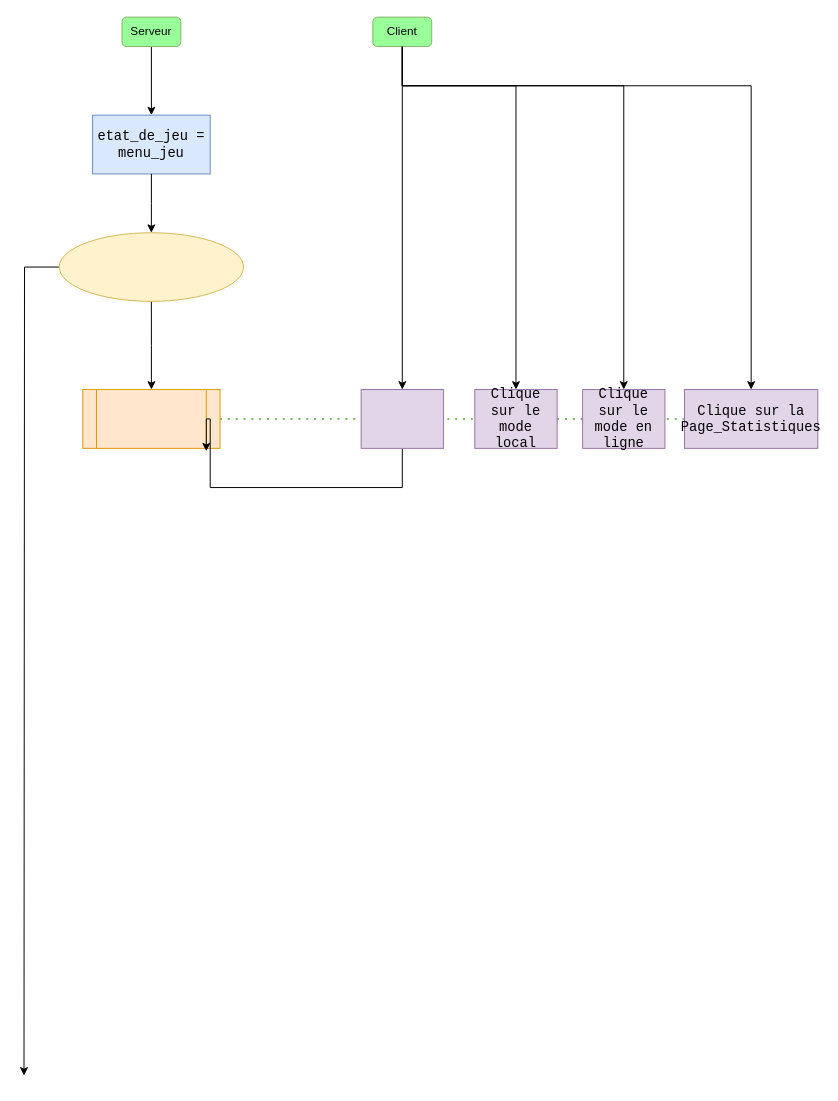
Image size: 838x1101. Some labels were removed from this diagram. The shapes that lost their labels are listed below. From the top down, each one's centre as x and y in pixels, then its label:
At point (151, 266): "Tant que etat_de_jeu != fin_du_jeu".
At point (151, 418): "Page_Demarrage".
At point (401, 418): "Clique sur la flèche retour".
